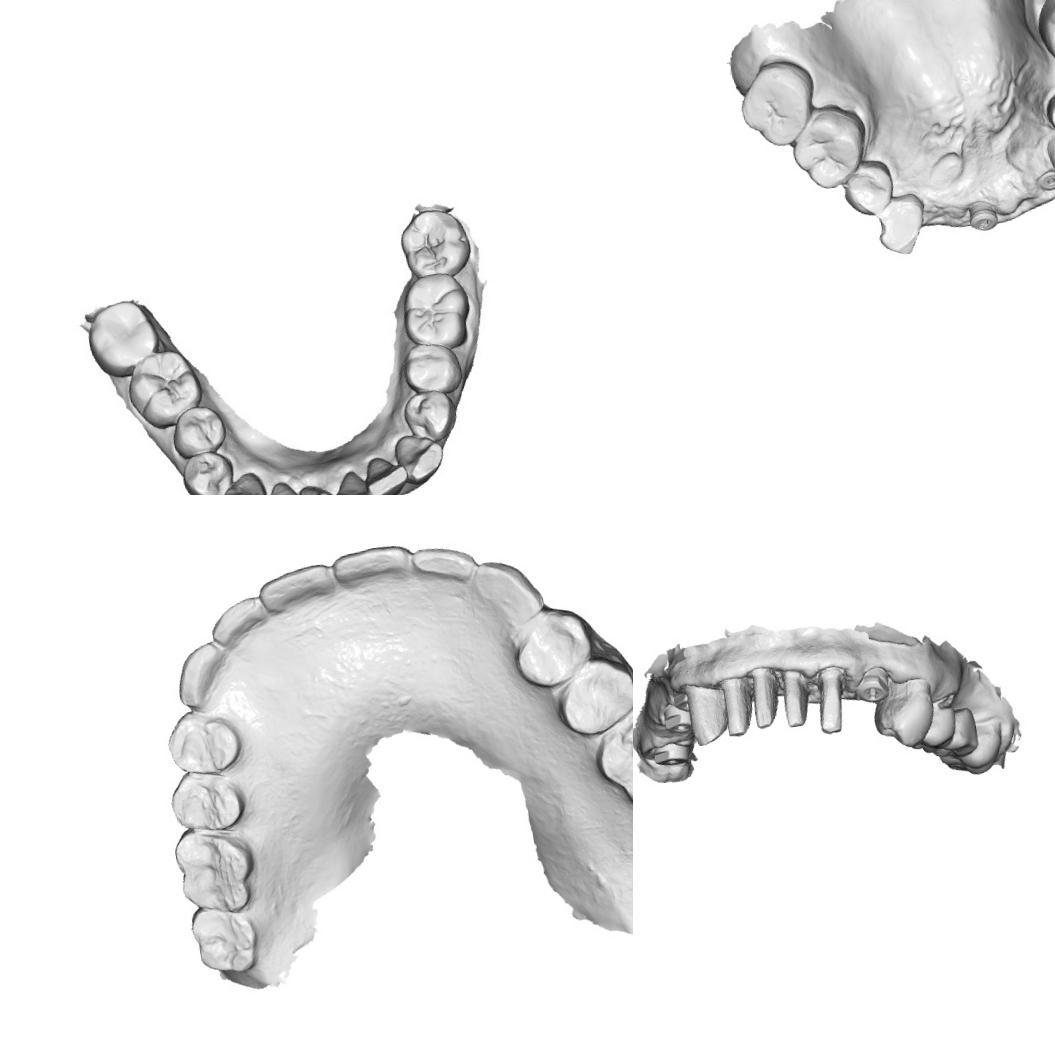canine: (471, 553, 548, 630), (872, 190, 934, 260), (170, 640, 230, 711), (390, 429, 450, 489), (680, 676, 729, 749), (217, 468, 269, 495)
crown: (810, 662, 849, 734), (718, 671, 756, 739), (746, 664, 781, 730), (780, 663, 810, 735)
implant: (645, 735, 700, 772), (658, 694, 691, 740), (965, 198, 1003, 235), (1033, 166, 1055, 195)
implant_minus: (852, 665, 894, 706)
incisor: (330, 542, 420, 603), (254, 564, 340, 624), (410, 538, 478, 596), (208, 596, 270, 657), (358, 452, 413, 495), (322, 463, 381, 495), (256, 476, 308, 495), (292, 477, 337, 495)
molar: (166, 821, 260, 922), (732, 56, 822, 153), (784, 101, 873, 195), (121, 342, 209, 436), (81, 294, 165, 383), (395, 267, 476, 356), (183, 899, 264, 980), (394, 203, 473, 283), (587, 698, 633, 818)
premolar: (514, 608, 599, 693), (551, 653, 633, 741), (162, 704, 244, 780), (165, 764, 247, 839), (867, 676, 940, 755), (837, 156, 902, 222), (165, 399, 231, 462), (397, 336, 464, 398), (399, 386, 458, 448), (178, 445, 239, 495), (1039, 79, 1055, 144)
